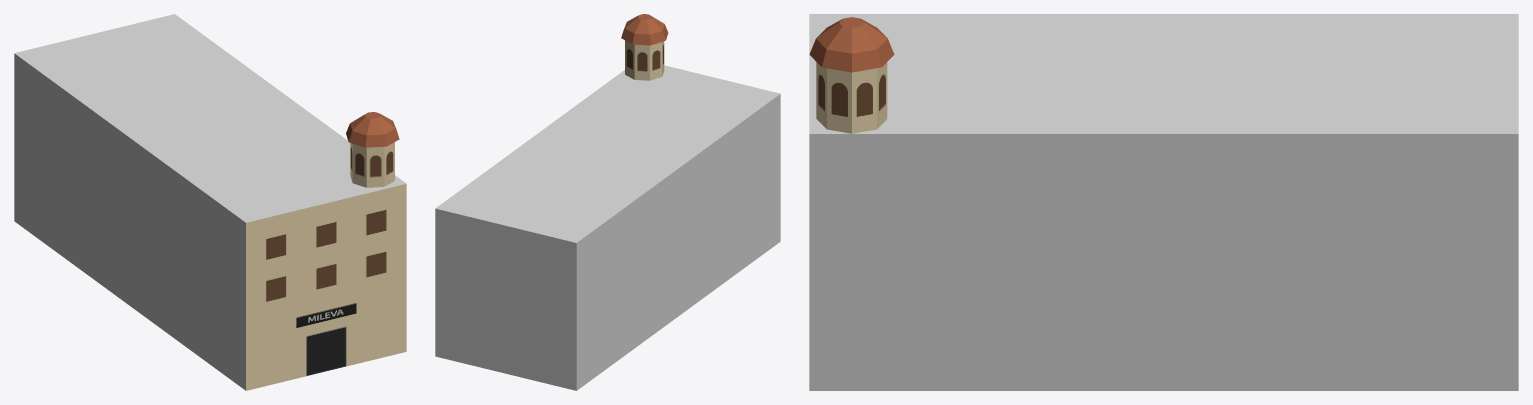
The model's file is comedias.glb.
3 renders of one model, left to right at view 1: azimuth 30°, elevation 25°; view 2: azimuth 150°, elevation 25°; view 3: azimuth 270°, elevation 25°, orthographic. The views are drawn at different scales.
Visible parts, largest first — view 1: Building, Circle; view 2: Building, Circle; view 3: Building, Circle.
Part boxes in pixels (x1=…): Building: x1=14, y1=14, x2=406, y2=390; Circle: x1=346, y1=112, x2=399, y2=187; Building: x1=435, y1=65, x2=780, y2=390; Circle: x1=621, y1=14, x2=668, y2=80; Building: x1=809, y1=14, x2=1518, y2=390; Circle: x1=809, y1=17, x2=894, y2=133.
Size of what is drawn, in the model's own units: 8.2 by 11 by 20.
4 materials, 2 textured.
